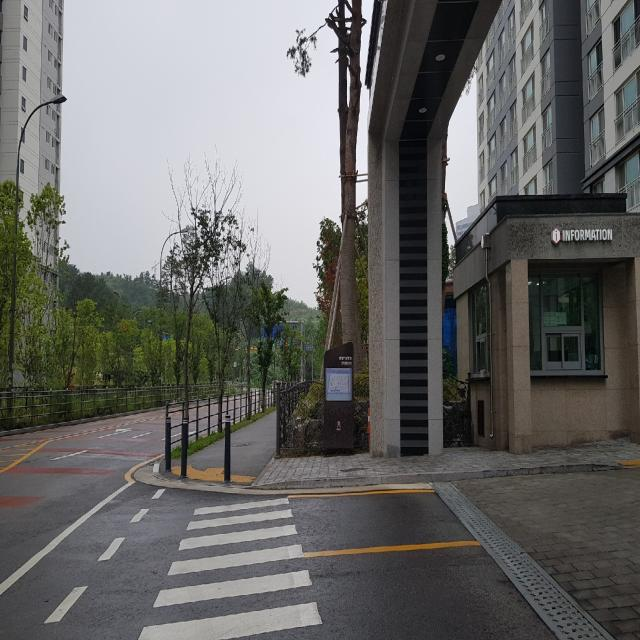횡단보도: (138, 495, 324, 640)
